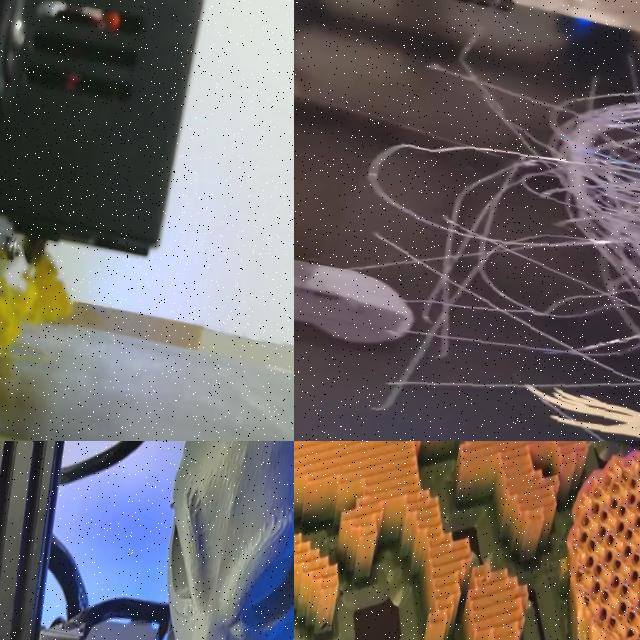spaghetti: (315, 0, 640, 441), (0, 254, 70, 348)
